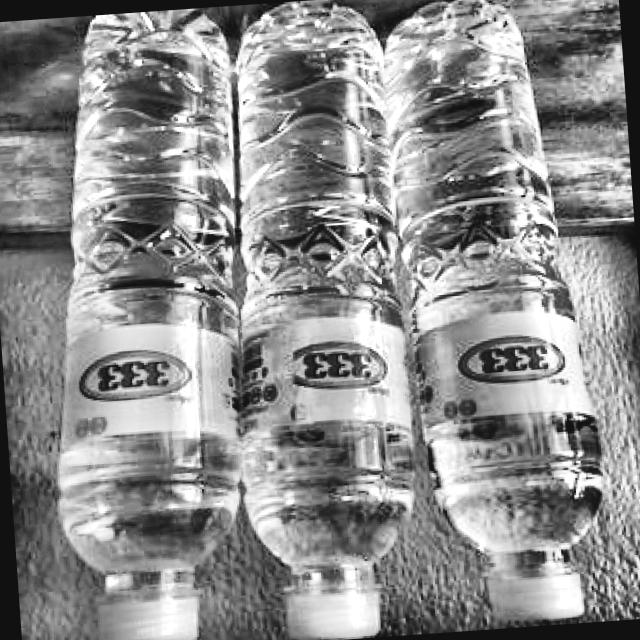waterbottle: (359, 0, 622, 634), (16, 5, 278, 640), (201, 0, 439, 640)
